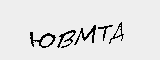В: (56, 27, 75, 49)
Д: (107, 19, 125, 46)
М: (74, 22, 96, 48)
Т: (96, 22, 114, 42)
Ю: (27, 29, 56, 51)
